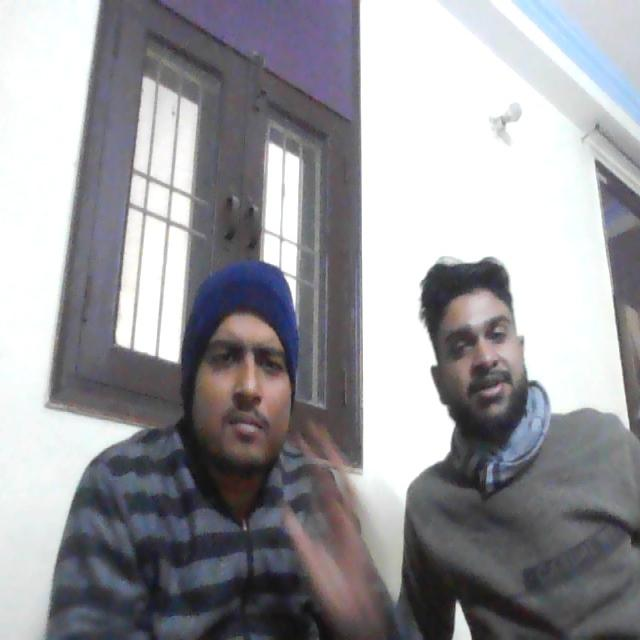real: (189, 274, 299, 482), (425, 240, 528, 435)
